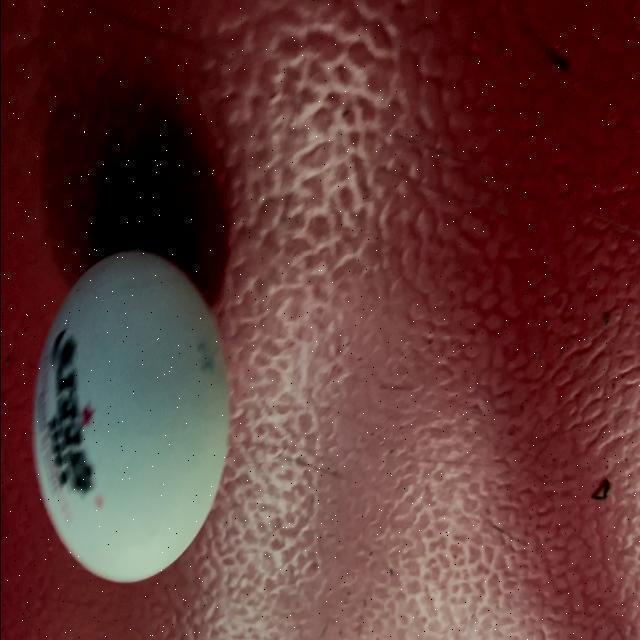ping-pong-ball: (18, 228, 244, 600)
